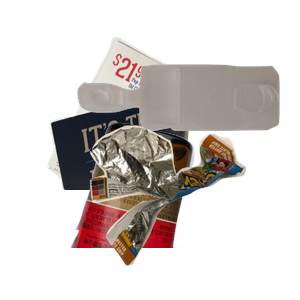glass: (68, 120, 255, 300)
paper: (45, 34, 230, 214)
plastic: (75, 62, 300, 186)
trash: (88, 123, 300, 300)
